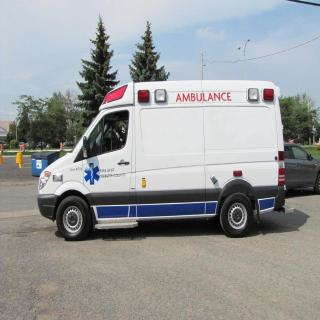Ambulance: (25, 74, 292, 243)
